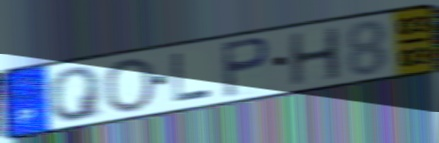8: (344, 17, 392, 78)
H: (287, 24, 344, 88)
L: (169, 51, 214, 104)
O: (102, 56, 157, 115)
P: (220, 35, 273, 100)
Q: (46, 64, 105, 124)
